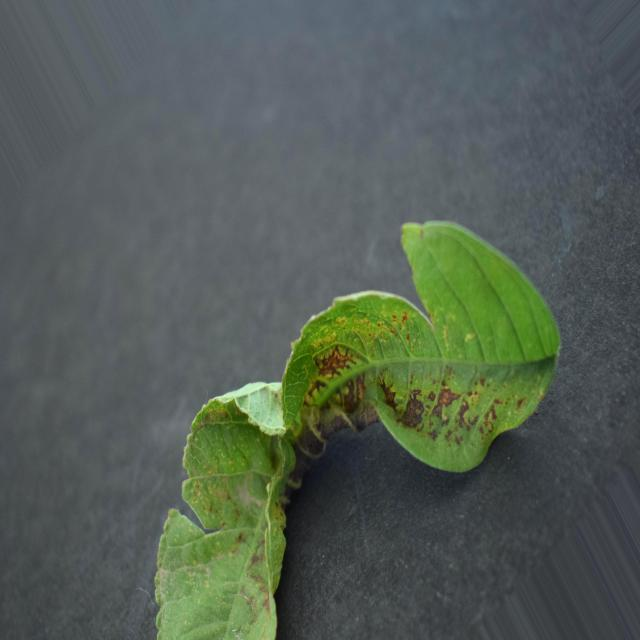Canker: (156, 221, 560, 639)
